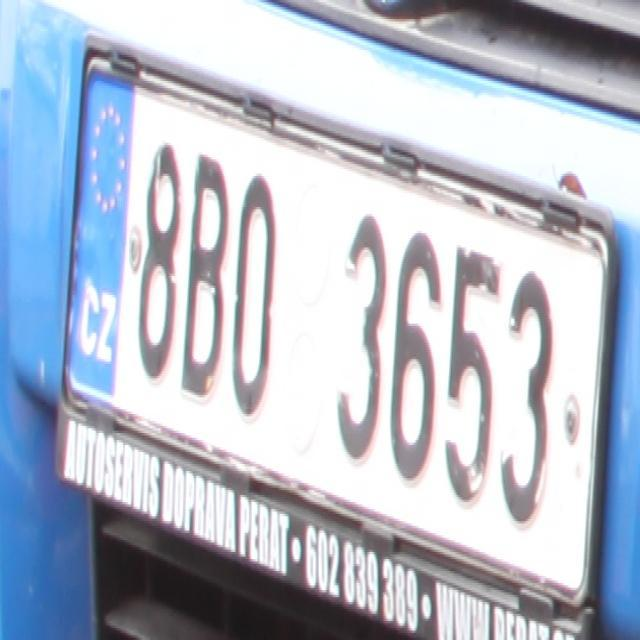0: (230, 164, 272, 414)
3: (498, 266, 552, 524), (336, 207, 390, 459)
5: (448, 240, 495, 498)
6: (390, 224, 443, 481)
8: (137, 142, 181, 378)
B: (182, 148, 226, 404)
